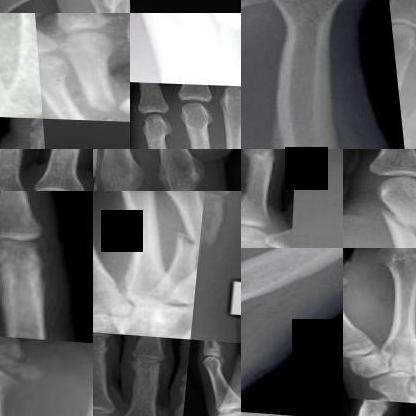fracture: (130, 13, 240, 49), (360, 194, 415, 248), (76, 68, 129, 117), (200, 191, 233, 261), (173, 217, 202, 257), (50, 102, 116, 118), (397, 101, 415, 142), (143, 139, 177, 148)
